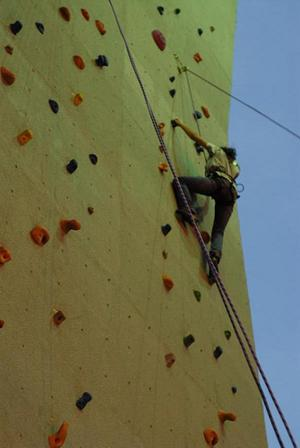person: (171, 116, 242, 287)
